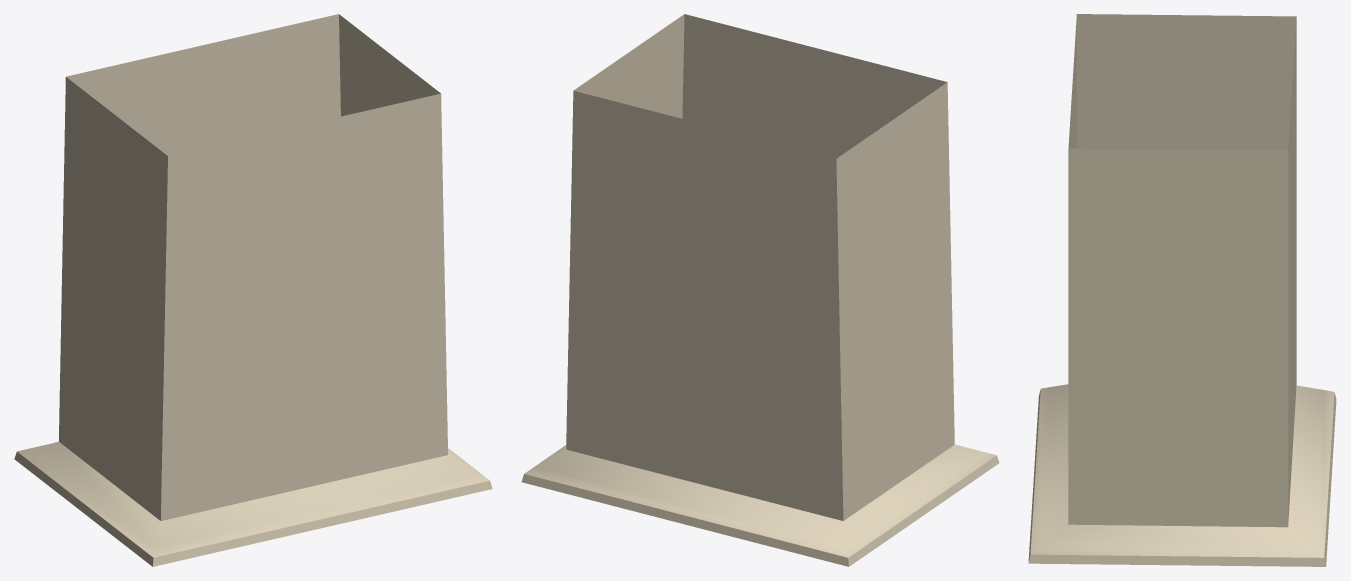
Rendered from extractor.fbx.
3 renders of one model, left to right at view 1: azimuth 30°, elevation 25°; view 2: azimuth 150°, elevation 25°; view 3: azimuth 270°, elevation 25°, orthographic. The views are drawn at different scales.
Visible parts, largest first — view 1: extractor?; view 2: extractor?; view 3: extractor?.
Part boxes in pixels (box(x1,y1,x2,y2)): extractor?: box(14, 14, 492, 566); extractor?: box(521, 14, 999, 566); extractor?: box(1028, 14, 1336, 566).
Bounding box in the file's own units: 50 × 55.55 × 38.09.
